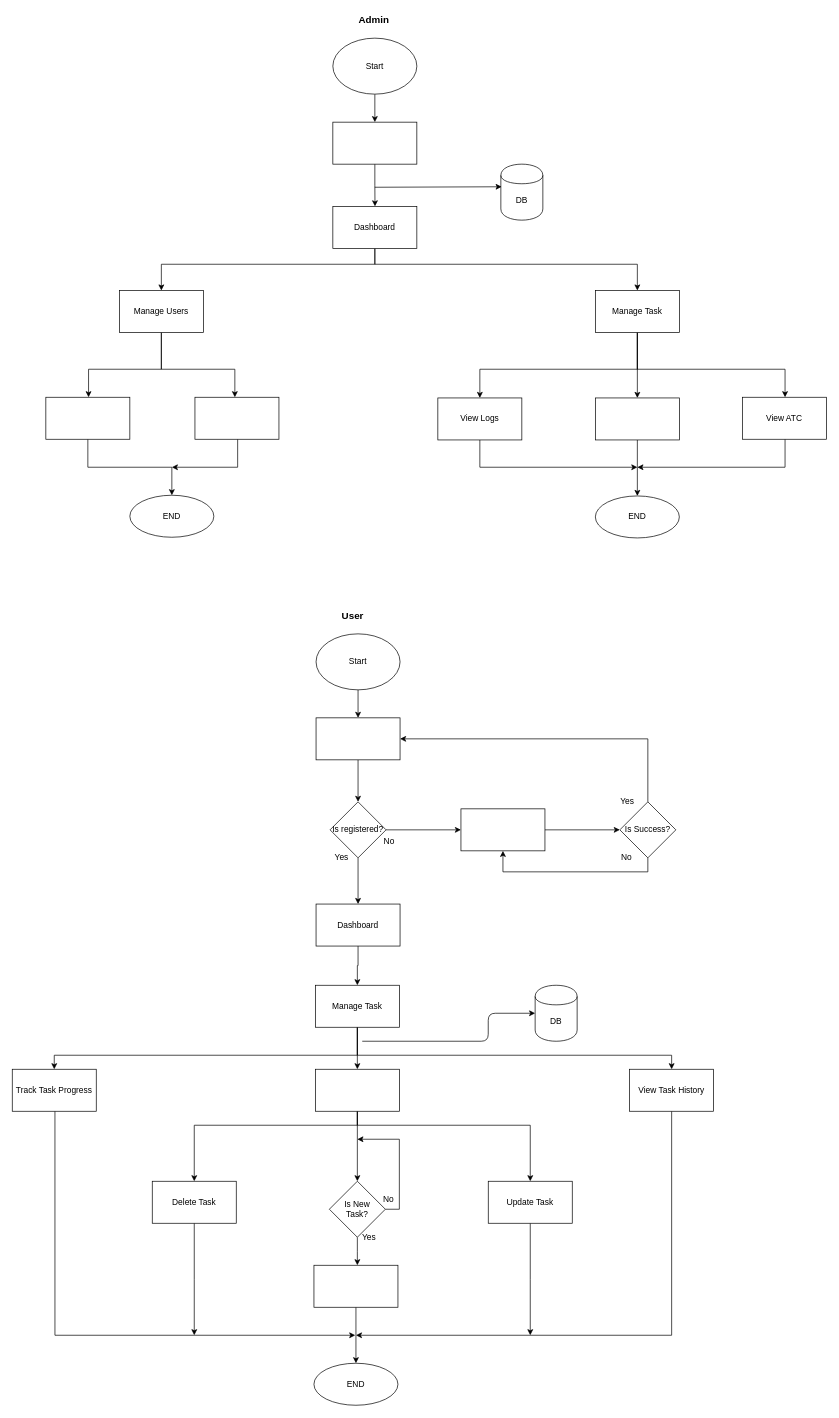
Image size: 839x1418. Some labels were removed from this diagram. Each missing label, with the centre of its shape:
Activate/ Deactivate User: the point at 87,418
Admin Login: the point at 374,142
Create Task: the point at 637,418
Notification: the point at 355,1286
Register: the point at 502,829
User Login: the point at 357,738
View Task: the point at 357,1090
View Users Tasks: the point at 236,418
